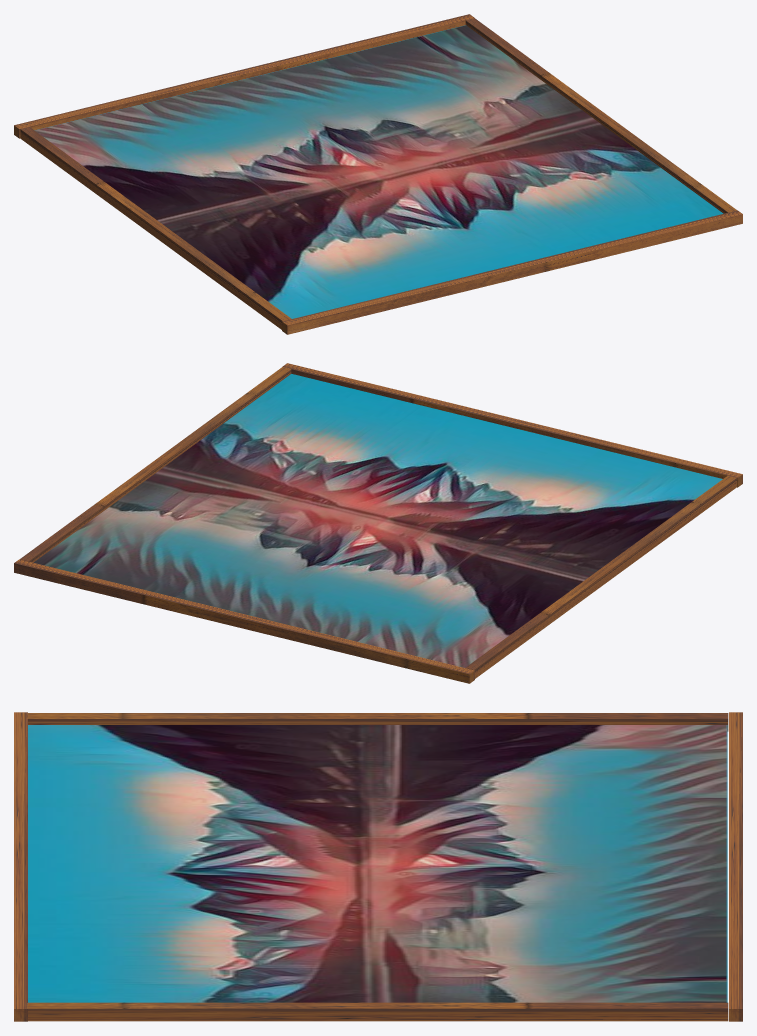
Rendered from painiting_mountain.glb.
3 renders of one model, top to bottom at view 1: azimuth 30°, elevation 25°; view 2: azimuth 150°, elevation 25°; view 3: azimuth 270°, elevation 25°, orthographic. The views are drawn at different scales.
Parts seen in each view (by area): view 1: Cube; view 2: Cube; view 3: Cube.
Part boxes in pixels (x1,y1,x2,y2): Cube: (14,14,742,334); Cube: (14,363,742,683); Cube: (14,712,742,1021).
Size of the model in its own units: 10 by 0.2 by 10.39.
Materials: 3 (2 with a texture image).
